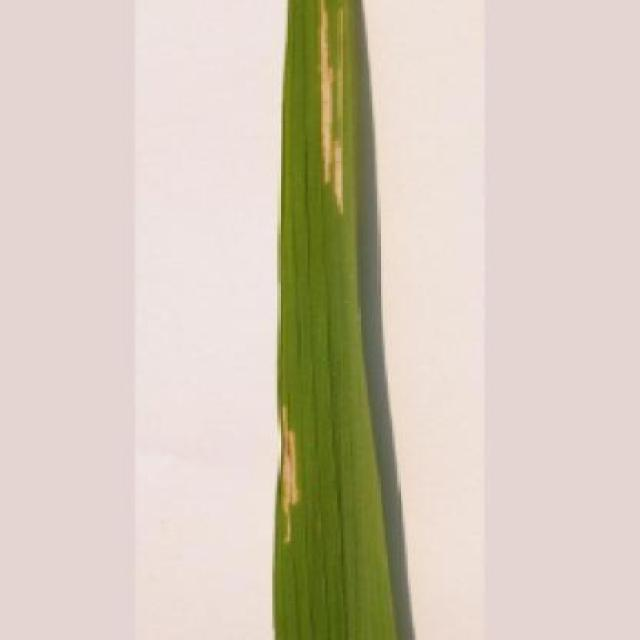Brown_Spot: (270, 0, 416, 640)
